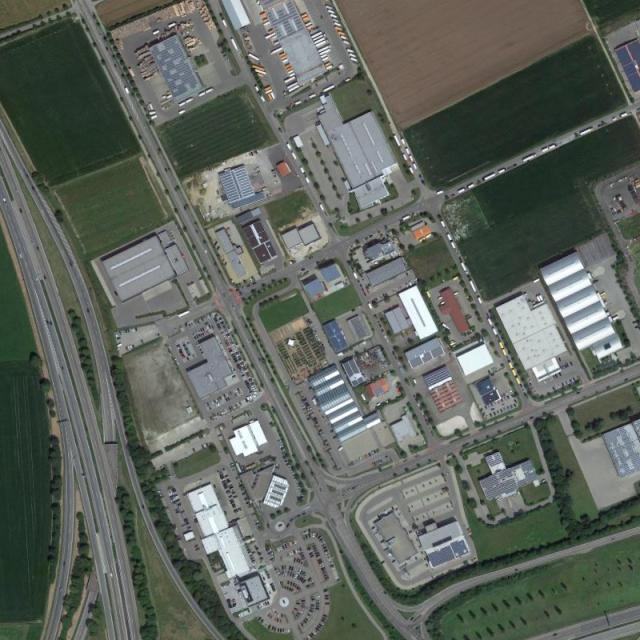vehicle: (469, 279, 479, 295), (460, 261, 470, 275), (579, 127, 594, 136), (523, 153, 537, 162), (483, 173, 495, 181)
